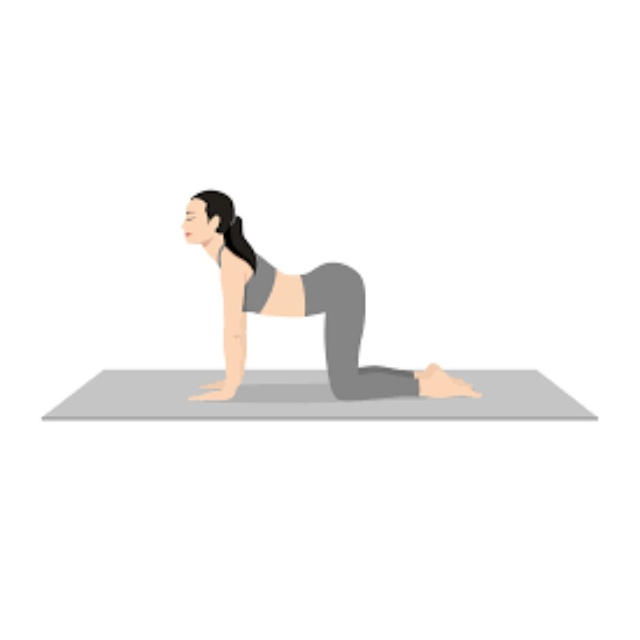Cow_Pose: (184, 188, 488, 403)
